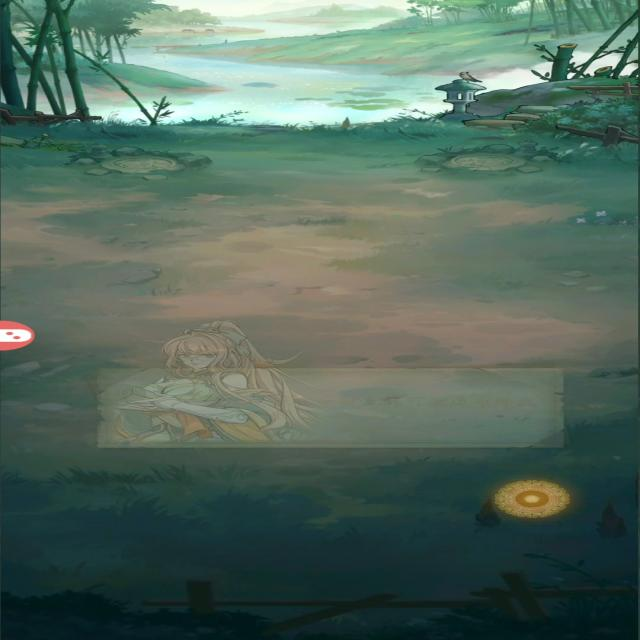hint-guide: (65, 324, 579, 468)
